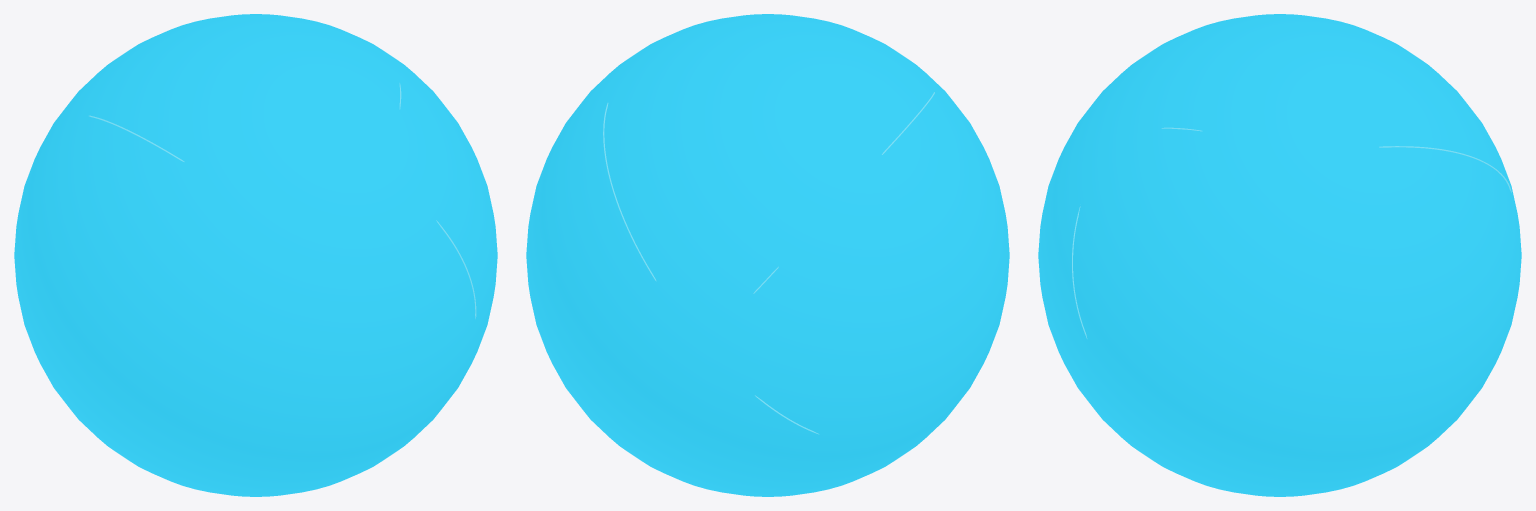
Rendered from globe.glb.
The picture shows the model from 3 angles, left to right: view 1: azimuth 30°, elevation 25°; view 2: azimuth 150°, elevation 25°; view 3: azimuth 270°, elevation 25°; orthographic projection.
Visible parts, largest first — view 1: Globe_Atmosphere; view 2: Globe_Atmosphere, Globe_Arcs; view 3: Globe_Atmosphere, Globe_Arcs.
Part boxes in pixels (box(x1,y1,x2,y2)): Globe_Atmosphere: box(14, 14, 497, 496); Globe_Atmosphere: box(526, 14, 1009, 496); Globe_Arcs: box(603, 92, 934, 434); Globe_Atmosphere: box(1038, 14, 1521, 496); Globe_Arcs: box(1072, 127, 1511, 338).
Size of the model in its own units: 2.12 by 2.12 by 2.12.
